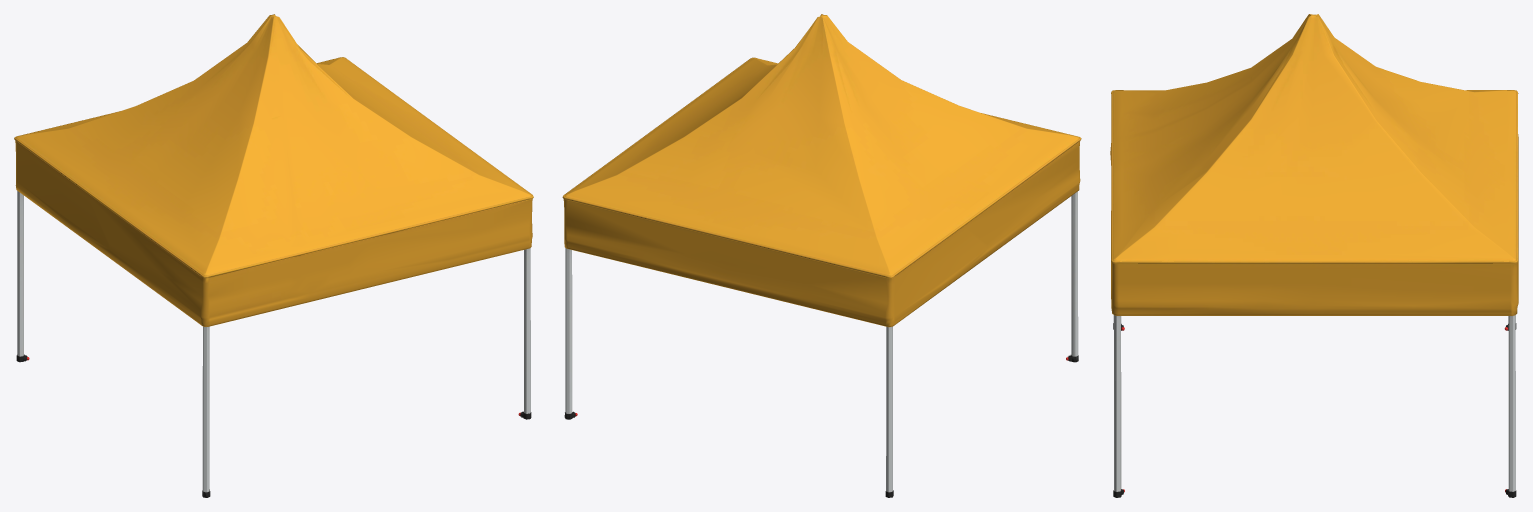
Rendered from Tent_8_8.glb.
The picture shows the model from 3 angles, left to right: view 1: azimuth 30°, elevation 25°; view 2: azimuth 150°, elevation 25°; view 3: azimuth 270°, elevation 25°; orthographic projection. The views are drawn at different scales.
Parts seen in each view (by area): view 1: fabric, leg; view 2: fabric, leg; view 3: fabric, leg.
Part boxes in pixels (box(x1,y1,x2,y2)): fabric: box(14, 14, 533, 326); leg: box(16, 191, 531, 497); fabric: box(562, 14, 1081, 327); leg: box(564, 191, 1078, 497); fabric: box(1110, 14, 1518, 315); leg: box(1113, 315, 1516, 497).
Size of the model in its own units: 2.44 by 2.62 by 2.44.
3 materials, 2 textured.
